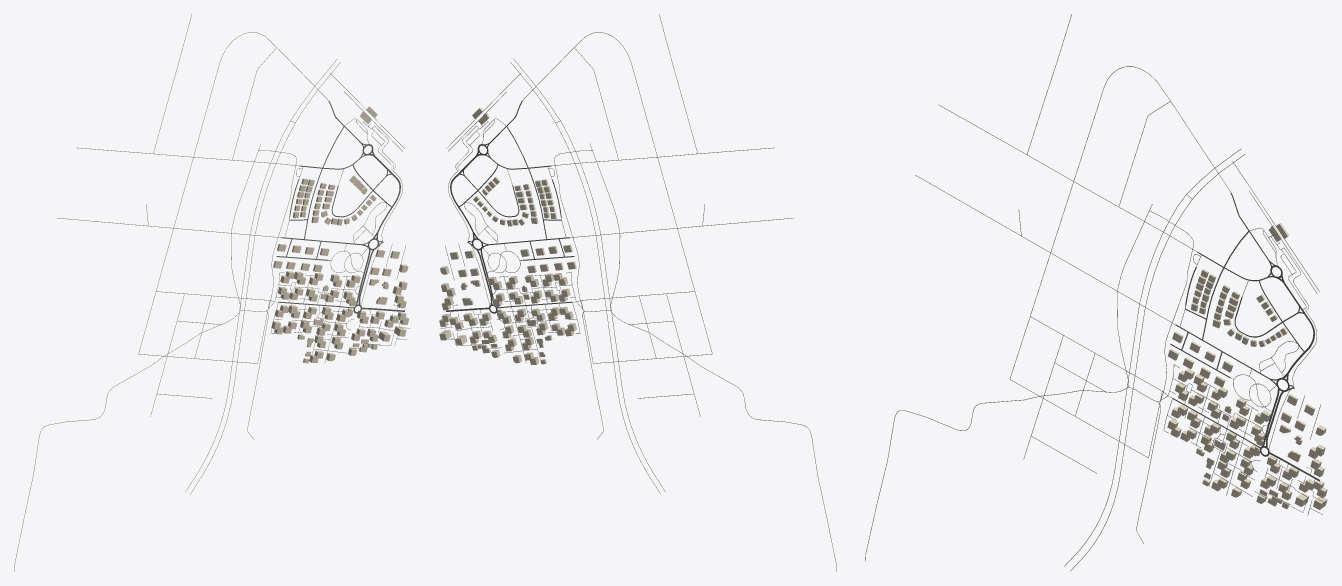
The model's file is historic-palestine-07_25_3487_3196.glb.
3 views of the same model, side by side, from view 1: azimuth 30°, elevation 25°; view 2: azimuth 150°, elevation 25°; view 3: azimuth 330°, elevation 25° (orthographic). The views are drawn at different scales.
Parts seen in each view (by area): view 1: Road .001; view 2: Road .001; view 3: Road .001.
Boxes of the visible parts, x1,y1,x2,y2 form: Road .001: (14, 144, 260, 571); Road .001: (590, 144, 836, 571); Road .001: (865, 204, 1152, 561).
Size of the model in its own units: 1366 by 1695 by 32.2.
